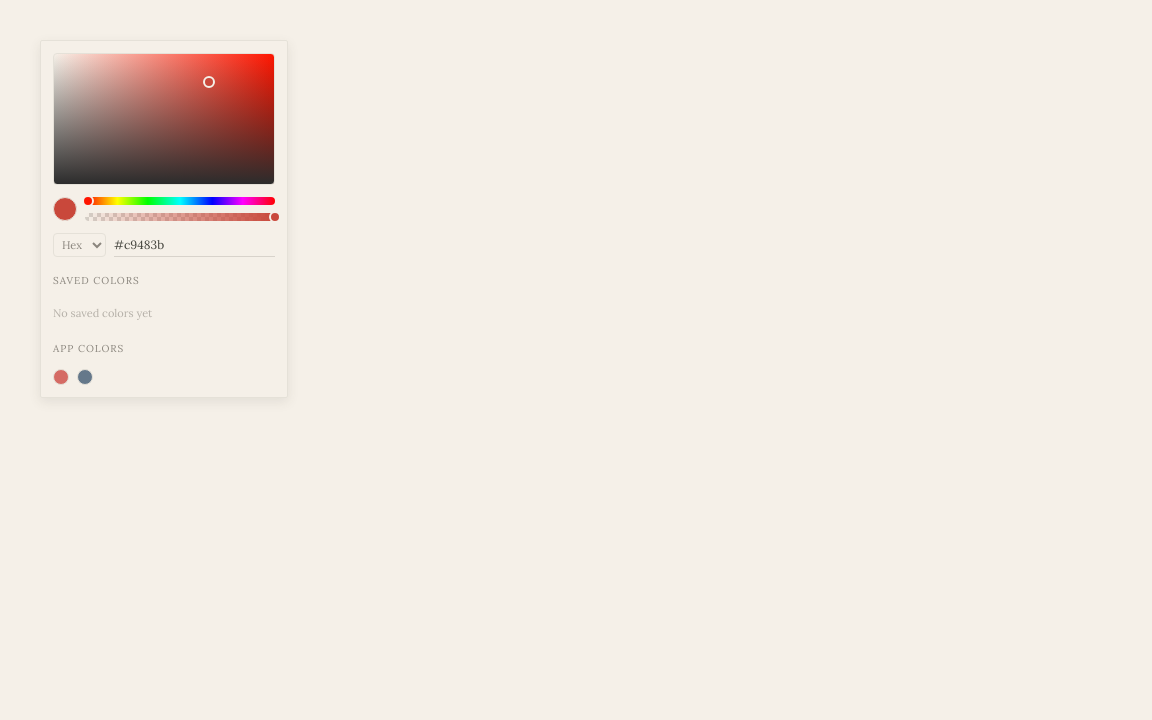
it: ColorPickerPopover › applying a swatch commits the color and saves it to the MRU list
Click the button named "Apply #d56b64" at (61, 377), box [53,369,69,385]
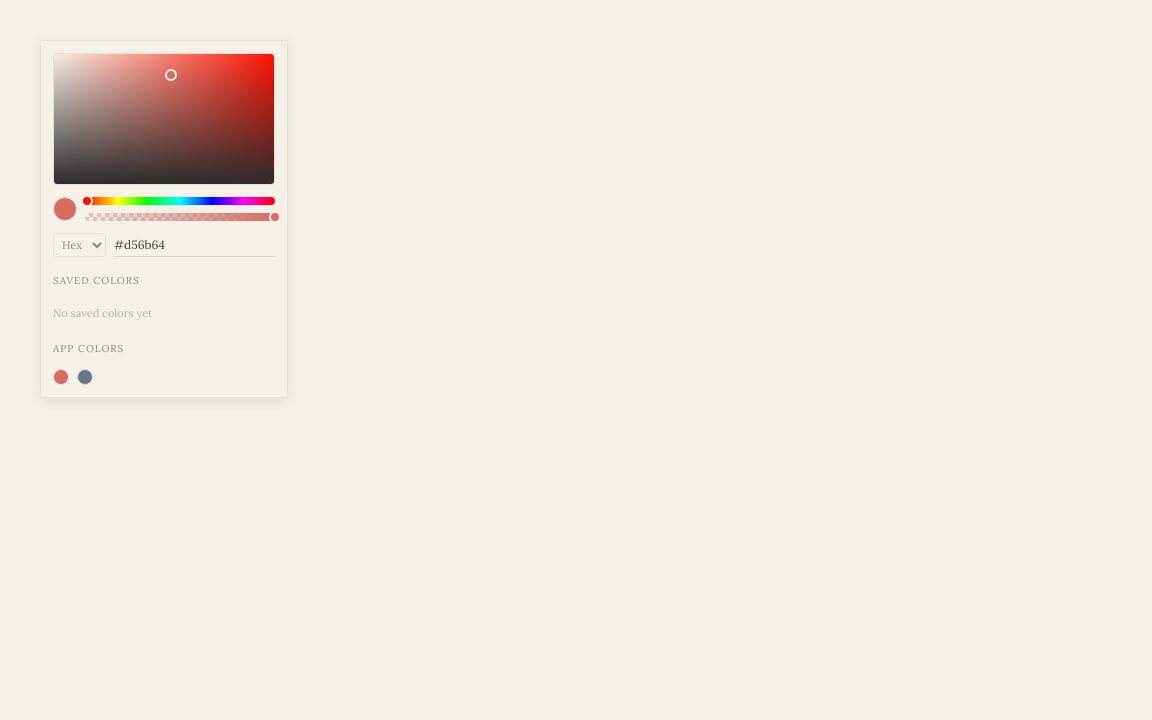
Result: the field named "Color value" holds "#d56b64" at [114,233,275,257]
